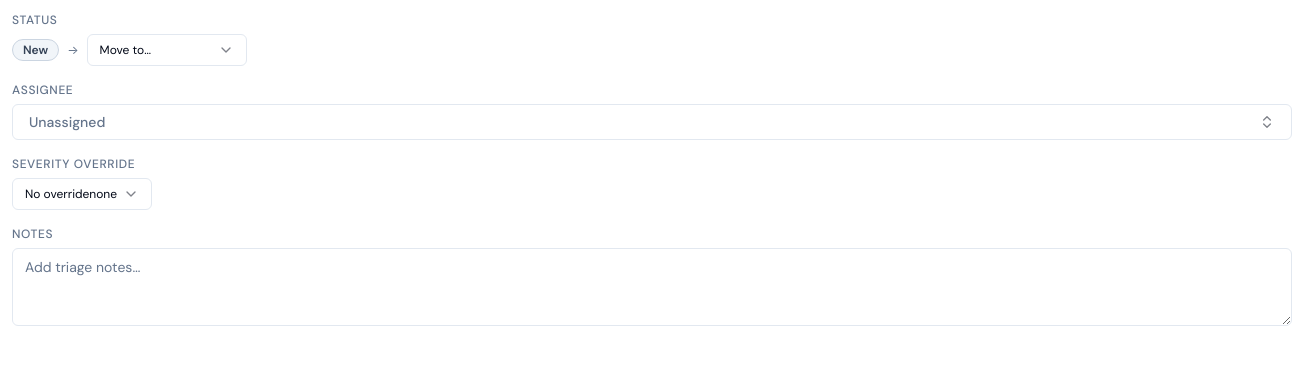
it: FindingTriageControls › shows dirty save button when notes are modified
Type "New note content" into the text box with placeholder "Add triage notes…". click: (652, 287)
box: [12,248,1292,326]
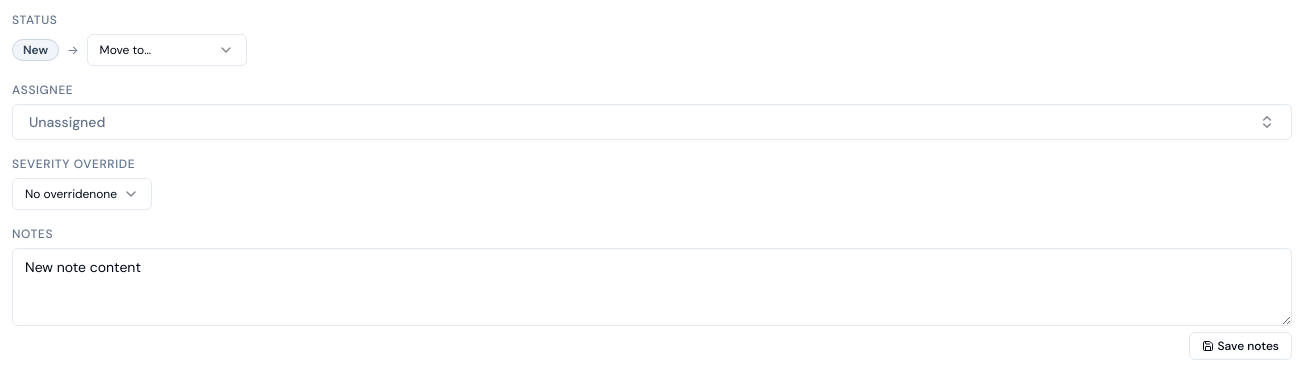
Result: the button "Save notes" is shown at [1188,332,1292,360]
